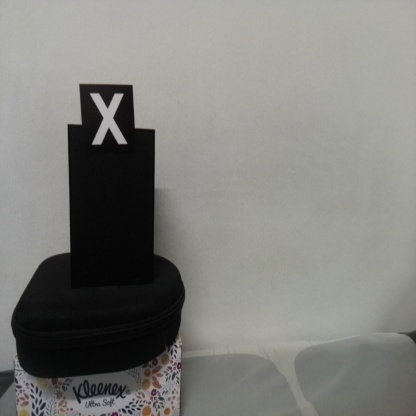id_13: (80, 84, 134, 155)
